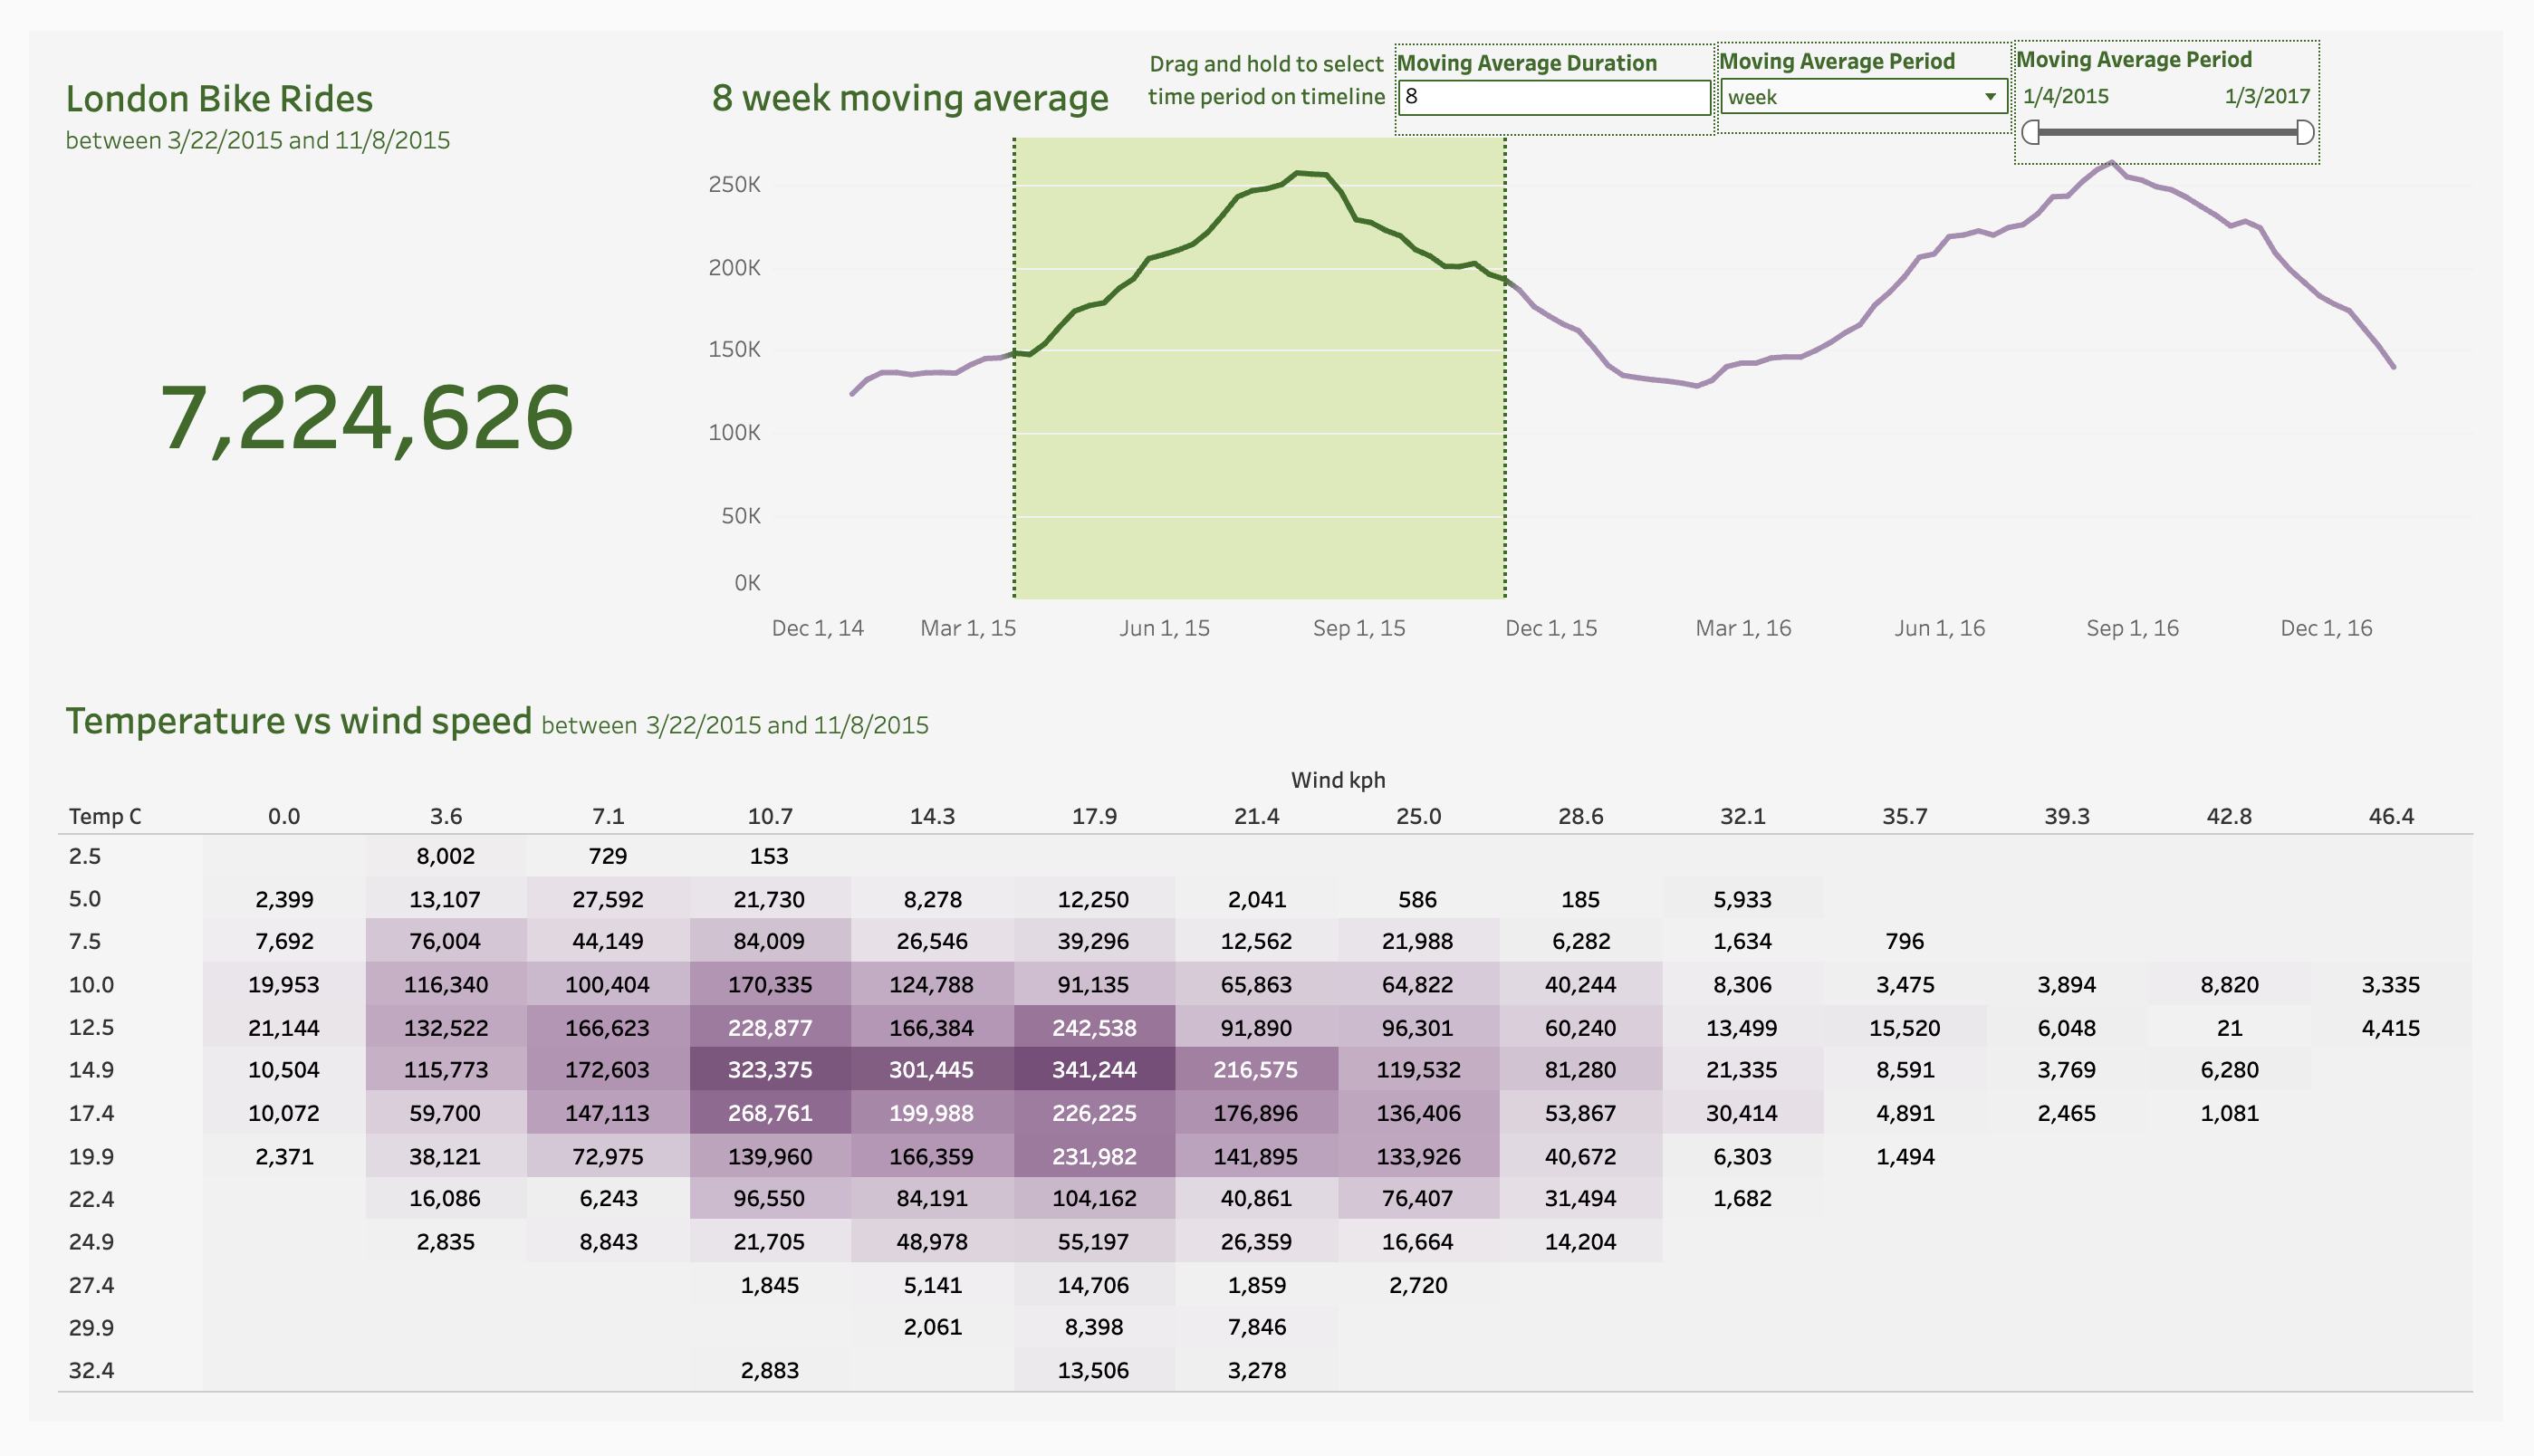

What the dashboard file says about the page in this screenshot:
{"tool":"tableau","page":{"name":"Dashboard 1","canvas":[1366,768],"ordinal":0},"visuals":[{"type":"filter","title":"Moving Average","param":"[federated.1psrqc60mpn5ln0zp0pb10q6bamj].[none:Calculation_4935486261604354:qk]","box":[1096,5,169,69]},{"type":"parameter","param":"[Parameters].[Parameter 4935486261030912]","box":[932,6,163,51]},{"type":"parameter","param":"[Parameters].[Parameter 4935486261248001]","box":[754,7,177,51]},{"type":"worksheet","title":"TotalRides","mark":"Automatic","box":[8,8,357,344]},{"type":"worksheet","title":"Moving Average","mark":"Automatic","rows":["Calculation1"],"cols":["Calculation_4935486261604354"],"box":[365,8,993,344]},{"type":"text","box":[615,9,137,34]},{"type":"worksheet","title":"Heatmap","mark":"Square","rows":["temp real C (bin)"],"cols":["Wind Speed Kph (bin)"],"box":[8,352,1350,408]}]}

Visuals, with their boxes in screenshot pixels (x1, y1, x2, y2), scaled from the page's 1366x768 canvas onto the 2534x1456 screenshot:
"Moving Average" filter: [left=2033, top=9, right=2347, bottom=140]
parameter: [left=1729, top=12, right=2031, bottom=108]
parameter: [left=1398, top=14, right=1727, bottom=110]
"TotalRides" worksheet: [left=14, top=15, right=677, bottom=667]
"Moving Average" worksheet: [left=677, top=15, right=2520, bottom=667]
text: [left=1141, top=17, right=1395, bottom=81]
"Heatmap" worksheet (Square marks): [left=14, top=667, right=2520, bottom=1441]
